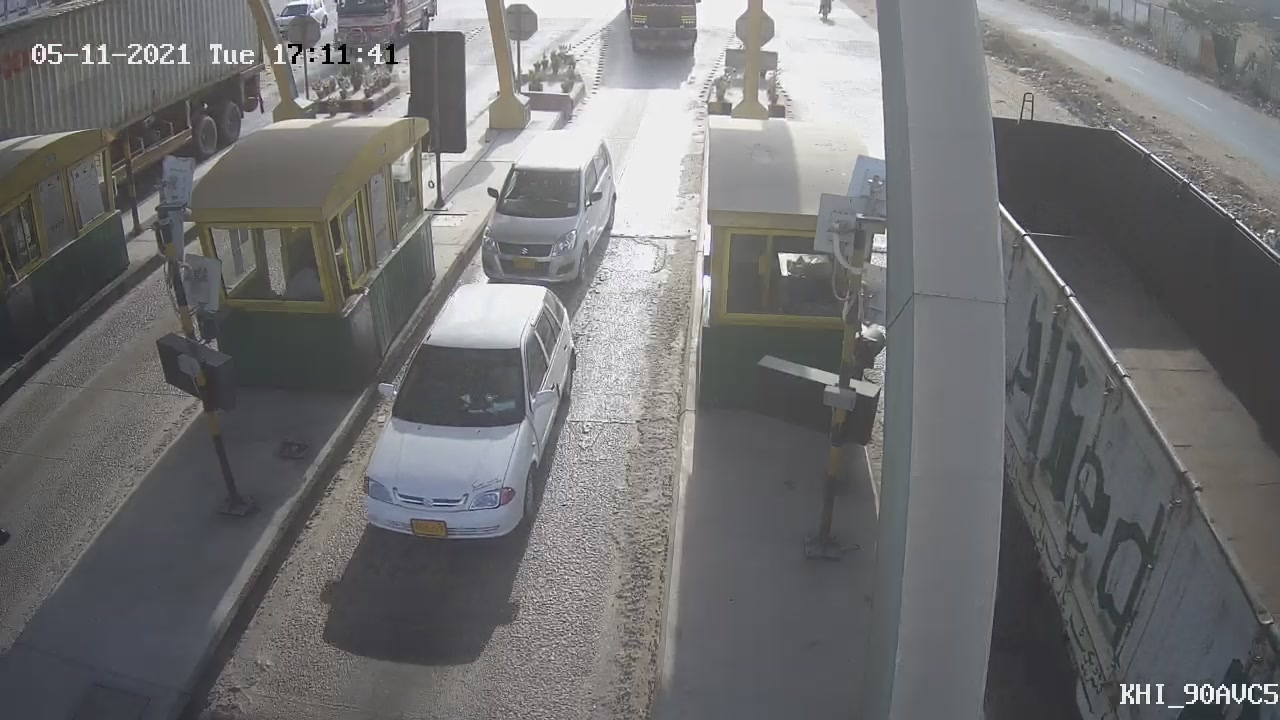F1: (334, 262, 613, 566), (468, 120, 629, 303)
